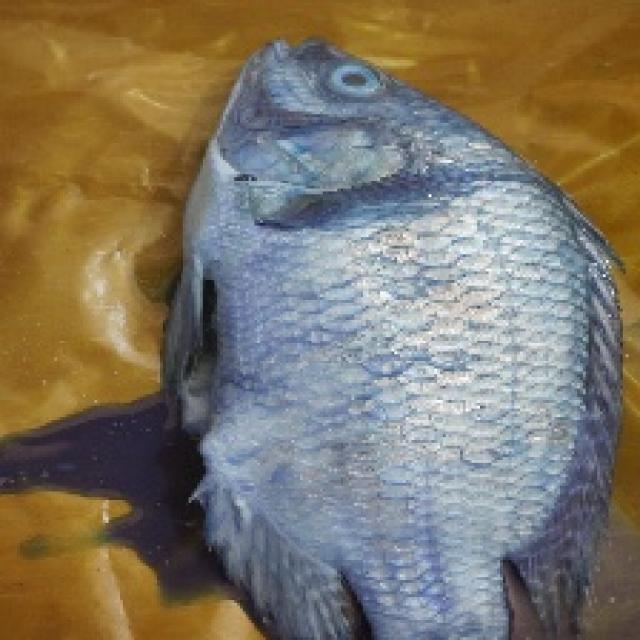Non-Fresh: (173, 50, 598, 534), (324, 56, 390, 110)
